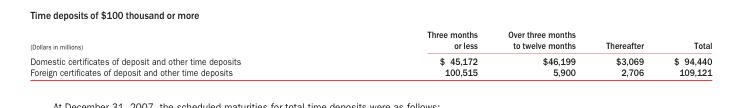table: (29, 28, 711, 77)
table column: (29, 28, 333, 77), (333, 28, 492, 77), (492, 28, 590, 77), (590, 28, 658, 77), (658, 28, 711, 77)
table column header: (29, 28, 711, 52)
table row: (29, 28, 711, 52), (29, 52, 711, 66), (29, 66, 711, 77)
